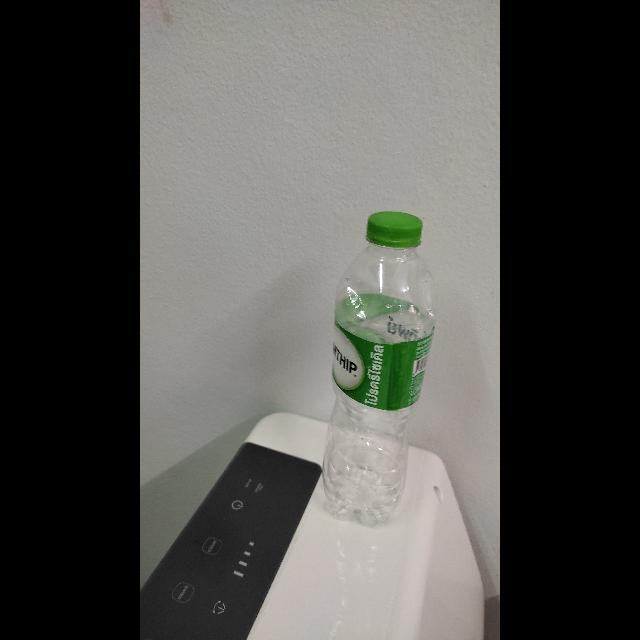plastic_bottle: (321, 185, 425, 533)
plastic_bottle_cap: (362, 206, 426, 250)
